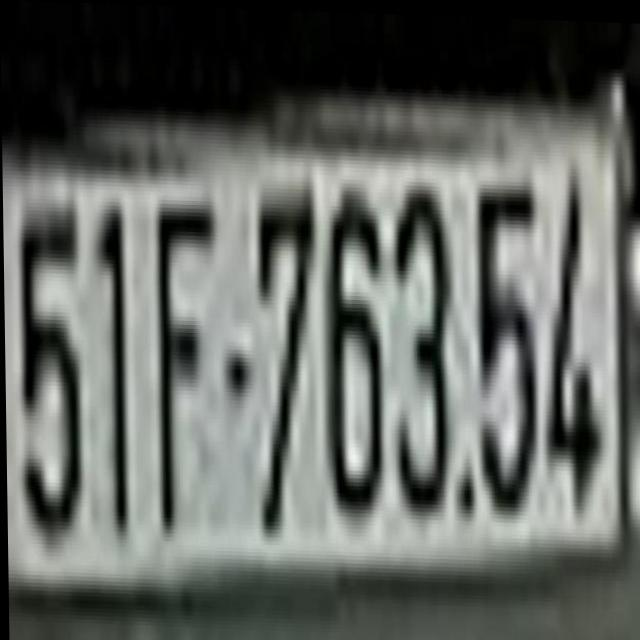1: (93, 197, 134, 551)
3: (389, 178, 451, 544)
4: (540, 159, 607, 522)
5: (16, 198, 85, 542), (473, 169, 540, 520)
6: (322, 172, 384, 523)
7: (255, 178, 321, 537)
F: (151, 179, 218, 546)
